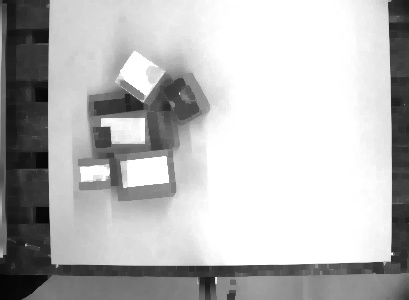b1: (149, 110, 181, 150)
b2: (76, 156, 116, 193)
b3: (87, 90, 128, 113)
b4: (108, 47, 168, 103)
b5: (114, 149, 178, 202)
b6: (83, 112, 152, 155)
b7: (162, 71, 210, 122)
